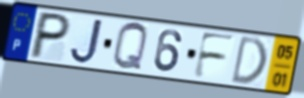6: (153, 29, 183, 74)
D: (229, 33, 269, 85)
F: (191, 30, 238, 81)
J: (68, 17, 106, 65)
P: (27, 10, 74, 61)
Q: (111, 21, 150, 73)
